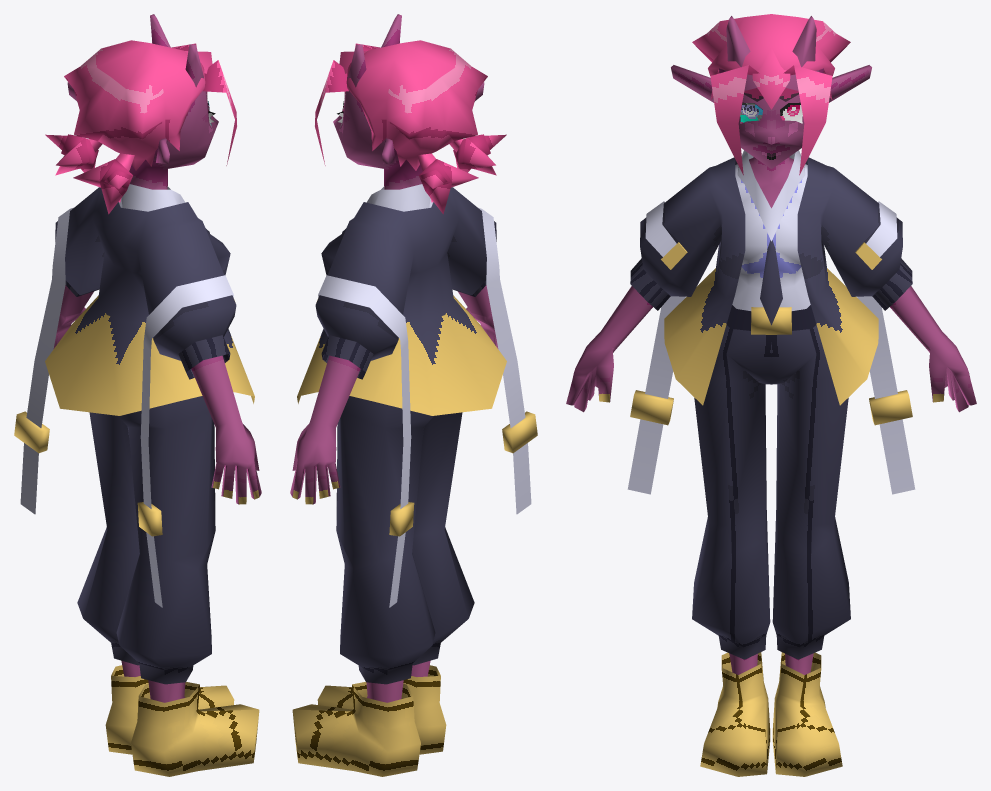
The model's file is alana lowpoly.glb.
3 renders of one model, left to right at view 1: azimuth 30°, elevation 25°; view 2: azimuth 150°, elevation 25°; view 3: azimuth 270°, elevation 25°, orthographic.
Parts seen in each view (by area): view 1: alana.clothes, alana.hair, alana.bod; view 2: alana.clothes, alana.hair, alana.bod; view 3: alana.clothes, alana.bod, alana.hair.
Part boxes in pixels (x1=…): alana.clothes: x1=14, y1=184, x2=259, y2=776; alana.hair: x1=45, y1=40, x2=236, y2=214; alana.bod: x1=53, y1=14, x2=261, y2=702; alana.clothes: x1=292, y1=184, x2=537, y2=776; alana.hair: x1=315, y1=40, x2=506, y2=214; alana.bod: x1=290, y1=14, x2=498, y2=702; alana.clothes: x1=627, y1=150, x2=915, y2=776; alana.bod: x1=566, y1=16, x2=976, y2=674; alana.hair: x1=692, y1=14, x2=850, y2=175.
Size of the model in its own units: 0.5642 by 2.12 by 1.09.
Materials: 2 (2 with a texture image).
